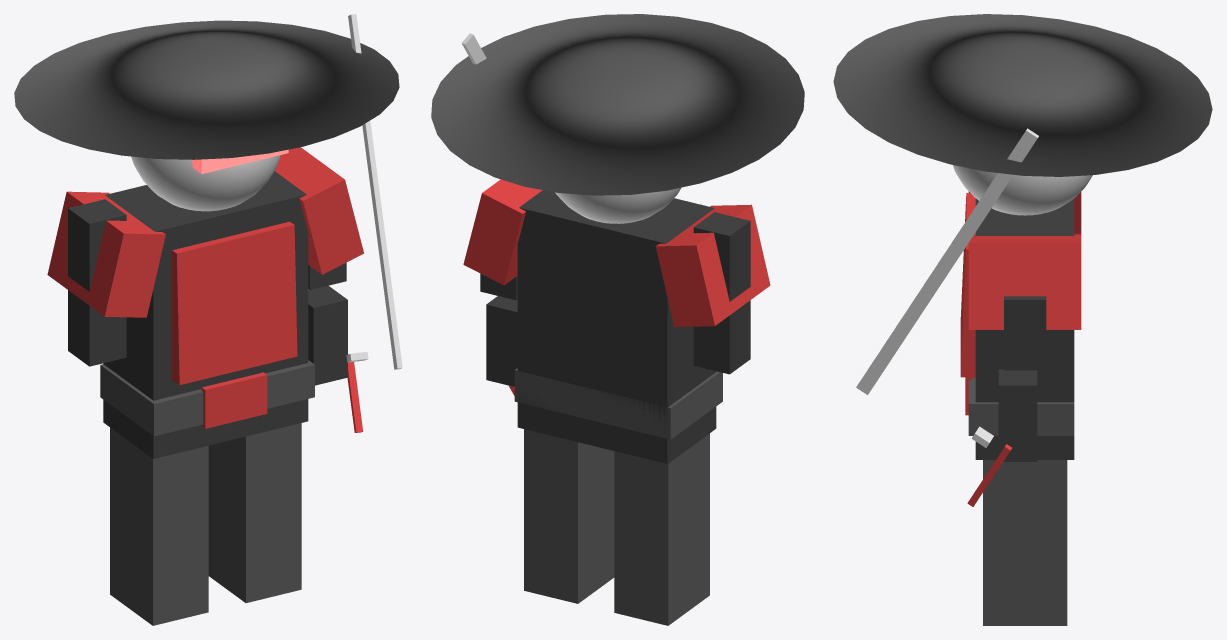
Rendered from samurai.glb.
3 renders of one model, left to right at view 1: azimuth 30°, elevation 25°; view 2: azimuth 150°, elevation 25°; view 3: azimuth 270°, elevation 25°, orthographic. The views are drawn at different scales.
Visible parts, largest first — view 1: StrawHat, Torso, ChestPlate, Leg_L, Leg_R, ShoulderArmor_L, Arm_L, ShoulderArmor_R, ObiBelt, Head, Forearm_R, ObiKnot (+4 smaller); view 2: StrawHat, Torso, Leg_L, Leg_R, ShoulderArmor_L, ObiBelt, Arm_L, ShoulderArmor_R, Forearm_R, Head, Arm_R; view 3: StrawHat, Leg_R, ShoulderArmor_R, Torso, SwordBlade, Head, Forearm_R, Arm_R, ObiBelt, ChestPlate, SwordHandle.
Boxes of the visible parts, x1,y1,x2,y2 form: StrawHat: (14, 20, 399, 159); Torso: (103, 171, 308, 458); ChestPlate: (172, 221, 297, 384); Leg_L: (110, 427, 208, 625); Leg_R: (208, 423, 301, 603); ShoulderArmor_L: (47, 191, 165, 317); Arm_L: (68, 199, 126, 366); ShoulderArmor_R: (275, 147, 363, 274); ObiBelt: (100, 360, 314, 436); Head: (131, 155, 280, 211); Forearm_R: (308, 285, 347, 385); ObiKnot: (201, 372, 267, 428); StrawHat: (431, 14, 804, 195); Torso: (517, 190, 716, 463); Leg_L: (614, 433, 709, 625); Leg_R: (524, 429, 614, 603); ShoulderArmor_L: (655, 204, 770, 326); ObiBelt: (514, 368, 722, 439); Arm_L: (693, 212, 750, 374); ShoulderArmor_R: (463, 179, 542, 285); Forearm_R: (486, 296, 517, 386); Head: (555, 187, 681, 223); Arm_R: (480, 273, 517, 300); StrawHat: (833, 14, 1212, 176); Leg_R: (983, 460, 1067, 625); ShoulderArmor_R: (968, 234, 1081, 329); Torso: (975, 198, 1074, 459); SwordBlade: (856, 128, 1038, 394); Head: (953, 165, 1092, 215); Forearm_R: (998, 369, 1037, 461); Arm_R: (1004, 296, 1046, 370); ObiBelt: (968, 377, 1074, 435); ChestPlate: (960, 193, 975, 377); SwordHandle: (967, 444, 1011, 506).
Bounding box in the file's own units: 1.08 × 1.7 × 1.08.
